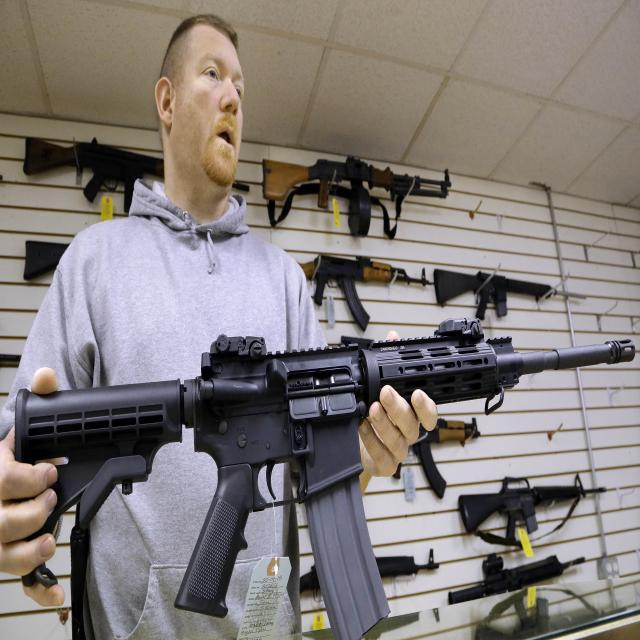Weapon: (9, 338, 640, 634), (264, 147, 458, 254), (449, 474, 612, 549), (433, 261, 587, 336)
